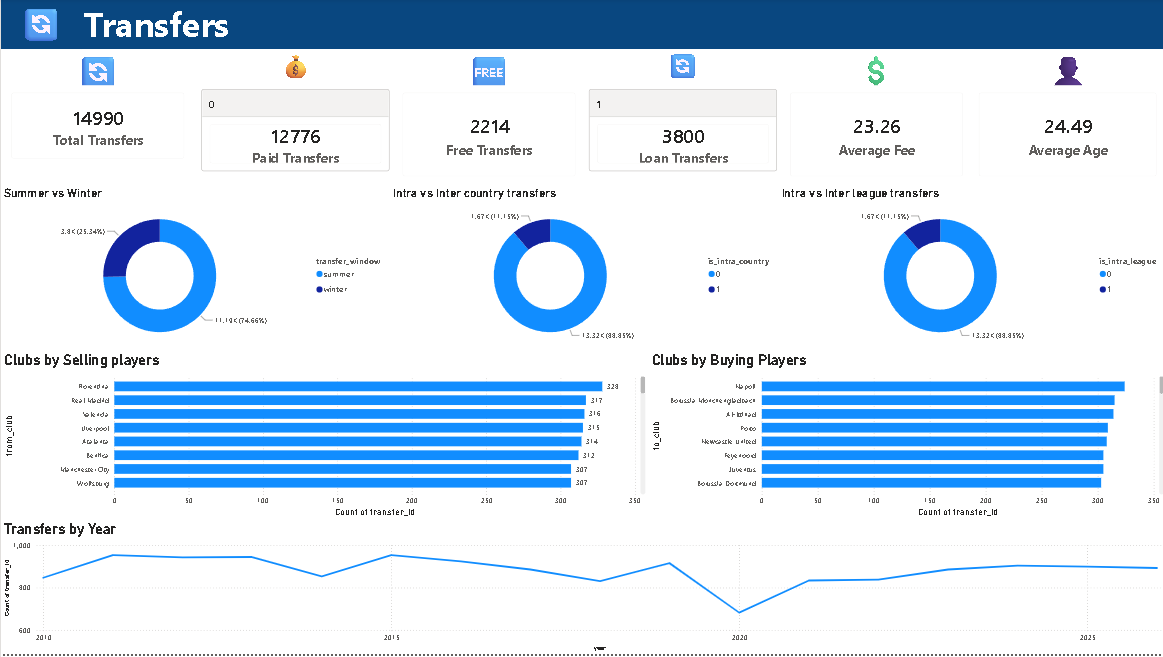

This screenshot's page, from the dashboard's own definition file:
{"tool":"powerbi","page":{"name":"Transfers","canvas":[1280,1500],"ordinal":4},"visuals":[{"type":"textbox","box":[0,0,1280,85],"z":0},{"type":"cardVisual","fields":{"Data":["transfers_history.Total_Transfers"]},"box":[0,85,325,197.5],"z":1000},{"type":"cardVisual","fields":{"Data":["transfers_history.Total_Transfers"],"Rows":["transfers_history.is_free_transfer"]},"box":[325,85,315,197.5],"z":2000},{"type":"cardVisual","fields":{"Data":["Sum(transfers_history.is_free_transfer)"]},"box":[640,85,325,197.5],"z":3000},{"type":"cardVisual","fields":{"Data":["transfers_history.Total_Transfers"],"Rows":["transfers_history.is_loan"]},"box":[955,85,325,197.5],"z":4000},{"type":"cardVisual","fields":{"Data":["Avg(transfers_history.age)"]},"box":[0,282.5,640,197.5],"z":5000},{"type":"cardVisual","fields":{"Data":["Avg(transfers_history.fee_eur_m)"]},"box":[640,285,640,197.5],"z":6000},{"type":"donutChart","title":"Summer vs Winter","fields":{"Category":["transfers_history.transfer_window"],"Y":["CountNonNull(transfers_history.transfer_id)"]},"box":[0,480,420,312.5],"z":7000},{"type":"donutChart","title":"Intra vs Inter country transfers","fields":{"Y":["CountNonNull(transfers_history.transfer_id)"],"Category":["transfers_history.is_intra_country"]},"box":[420,480,435,312.5],"z":8000},{"type":"donutChart","title":"Intra vs Inter league transfers","fields":{"Y":["CountNonNull(transfers_history.transfer_id)"],"Category":["transfers_history.is_intra_league"]},"box":[855,480,425,312.5],"z":9000},{"type":"lineChart","title":"Transfers by Year","fields":{"Category":["transfers_history.year"],"Y":["CountNonNull(transfers_history.transfer_id)"]},"box":[0,1280,1280,220],"z":10000},{"type":"clusteredBarChart","title":"Clubs by Selling players","fields":{"Category":["transfers_history.from_club"],"Y":["CountNonNull(transfers_history.transfer_id)"]},"box":[0,792.5,1280,237.5],"z":11000},{"type":"clusteredBarChart","title":"Clubs by Buying Players","fields":{"Category":["transfers_history.to_club"],"Y":["CountNonNull(transfers_history.transfer_id)"]},"box":[0,1041.7,1280,238.3],"z":12000}]}

Visuals, with their boxes on the page's 1280x1500 design canvas (x1, y1, x2, y2). These are canvas units, not pixel positions in the 1163x657 screenshot, which may show the page scaled, cropped or inside an application window:
textbox: [0, 0, 1280, 85]
cardVisual - transfers_history.Total_Transfers: [0, 85, 325, 282]
cardVisual - transfers_history.Total_Transfers x transfers_history.is_free_transfer: [325, 85, 640, 282]
cardVisual - Sum(transfers_history.is_free_transfer): [640, 85, 965, 282]
cardVisual - transfers_history.Total_Transfers x transfers_history.is_loan: [955, 85, 1280, 282]
cardVisual - Avg(transfers_history.age): [0, 282, 640, 480]
cardVisual - Avg(transfers_history.fee_eur_m): [640, 285, 1280, 482]
"Summer vs Winter" donutChart: [0, 480, 420, 792]
"Intra vs Inter country transfers" donutChart: [420, 480, 855, 792]
"Intra vs Inter league transfers" donutChart: [855, 480, 1280, 792]
"Transfers by Year" lineChart: [0, 1280, 1280, 1500]
"Clubs by Selling players" clusteredBarChart: [0, 792, 1280, 1030]
"Clubs by Buying Players" clusteredBarChart: [0, 1042, 1280, 1280]
